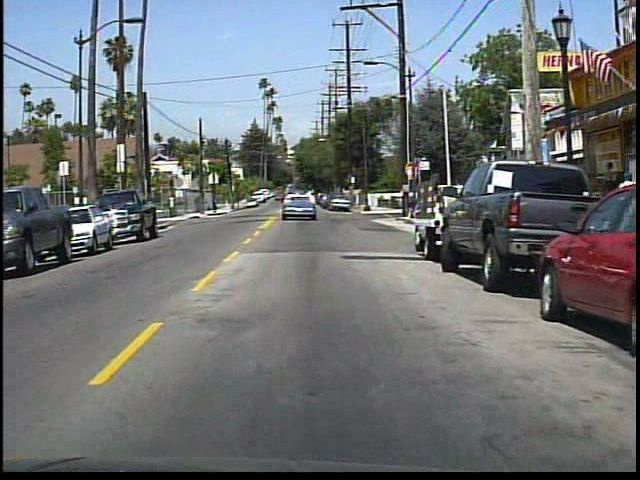person: (610, 169, 635, 251)
